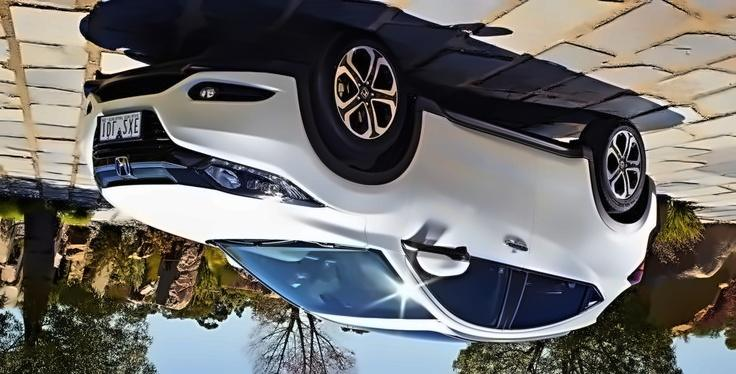Car hood: (101, 184, 368, 248)
Driver-s door - -F-R-: (398, 86, 535, 347)
Fender - -F-R-: (294, 84, 424, 256)
Fender - -R-R-: (579, 155, 657, 288)
Front bumper: (78, 66, 306, 182)
Headlight - -R-: (189, 155, 327, 210)
Passenger-s door - -R-R-: (485, 107, 601, 349)
Rear light - -R-: (626, 258, 647, 287)
Side bumper - -R-: (413, 92, 595, 185)
Side mirror - -R-: (398, 238, 473, 282)
